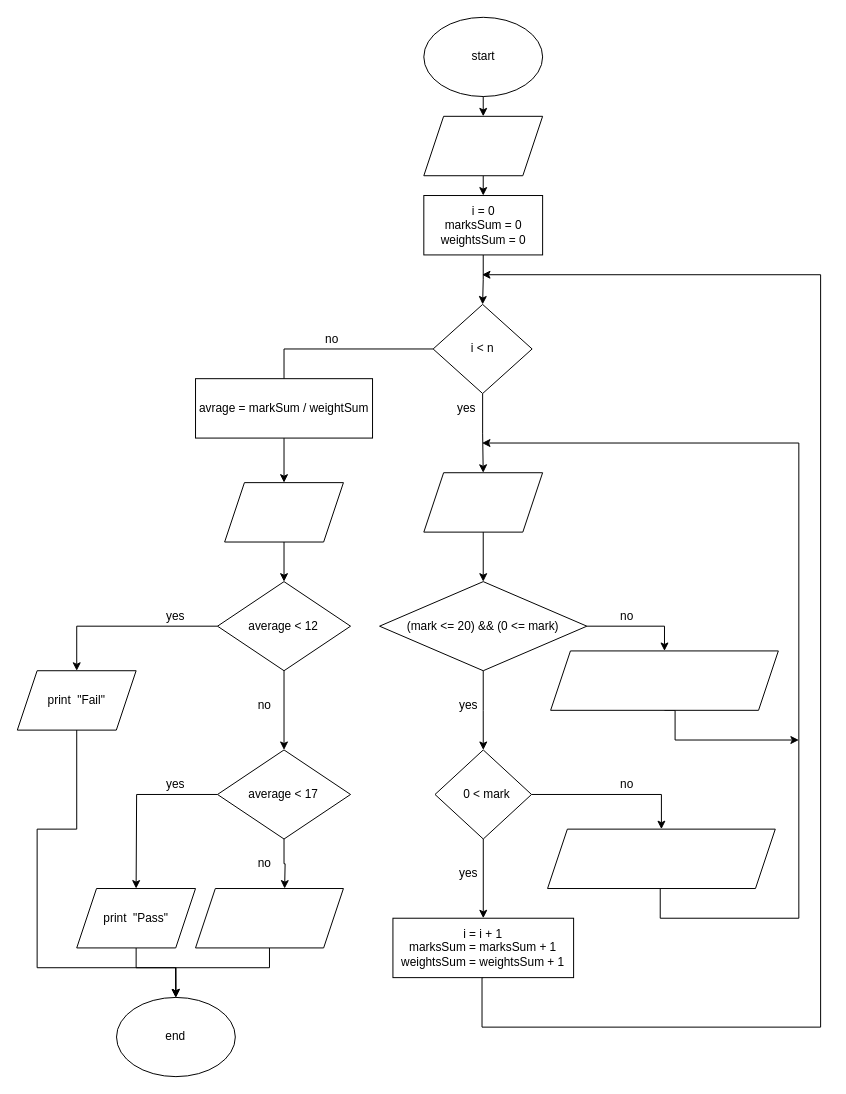
Some shapes in this 846 by 1094 pixel diagram are drawn without their labels. The box of each missing label's shape, as (x1, y1, x2, y2) in pixels:
get mark get weight: (423, 472, 543, 532)
get n: (423, 115, 543, 176)
print "Honor Student": (195, 888, 343, 948)
print "Invalid Coefficient": (547, 828, 775, 889)
print "Invalid Score ": (550, 650, 778, 710)
print average: (224, 482, 343, 542)
